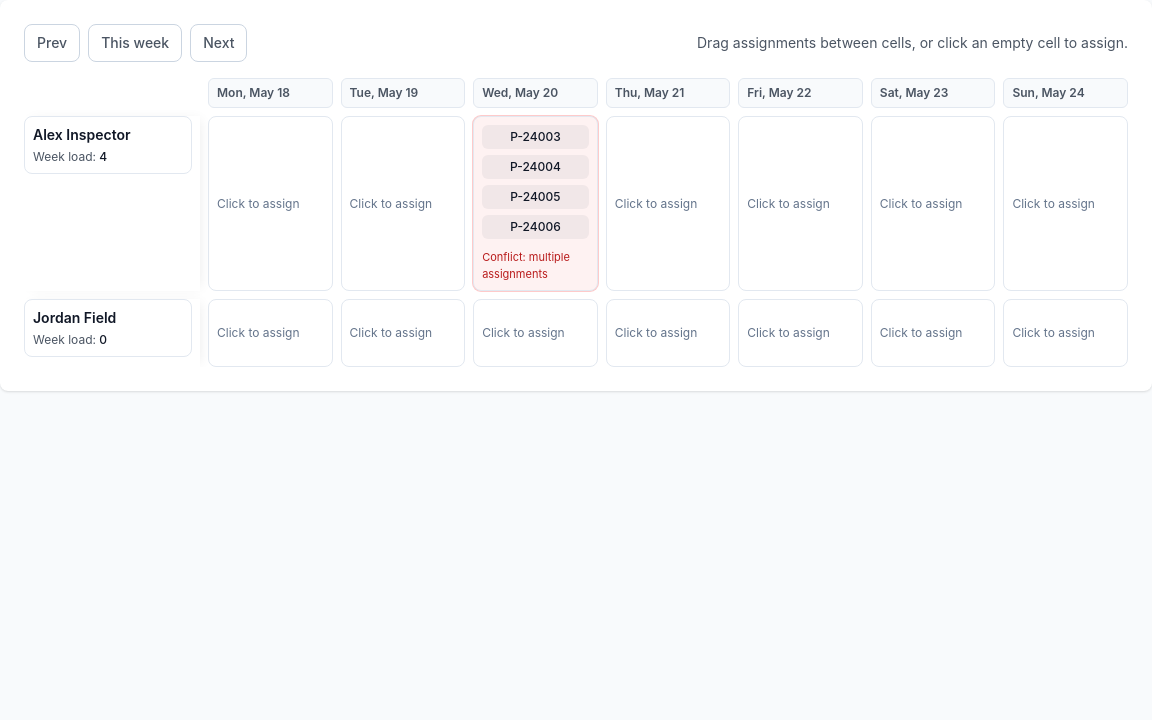
Test: AssignmentGrid › shows availability suggestion when selected cell is near daily maximum
Click the button with test id "assignment-cell-insp-alex-2026-05-20" at x=535, y=204, box [473,116,598,291]
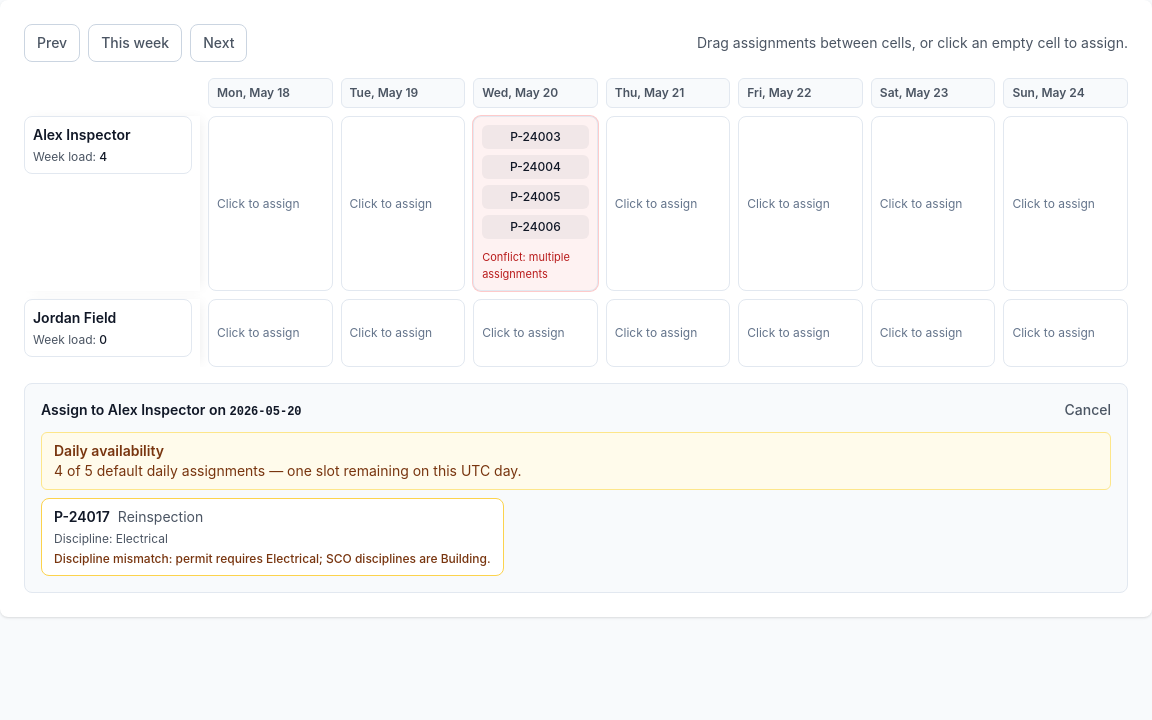
Check: the element with test id "assignment-grid-availability-warning" is shown, box [41,432,1111,490]
Check: the element with test id "assignment-grid-availability-warning" shows "one slot remaining", box [54,462,522,479]
